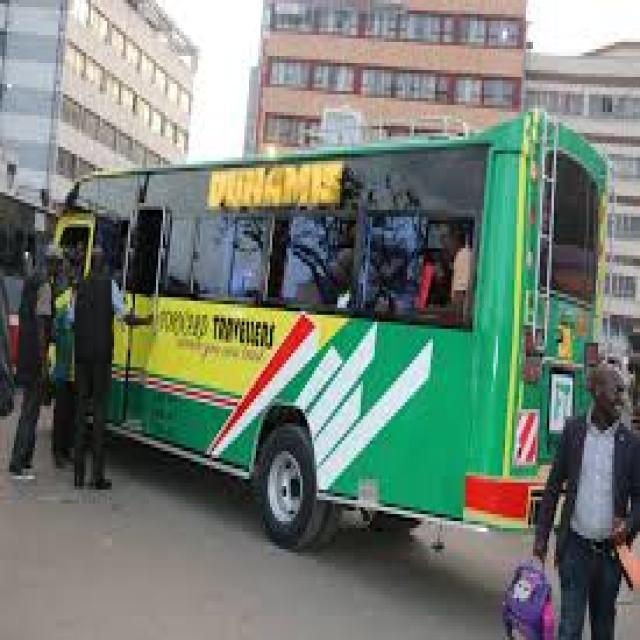bus: (12, 92, 620, 566)
